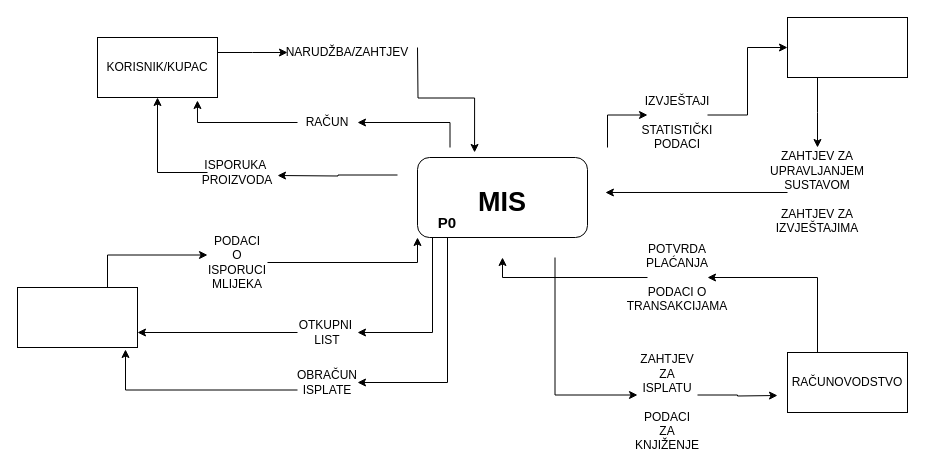
Some shapes in this 925 by 470 pixel diagram are drawn without their labels. Here are the shapes that lost their labels. From the top down, the centre of each, then its label:
[847,47]: ADMINISTRATOR
[77,317]: KOOPERANT
